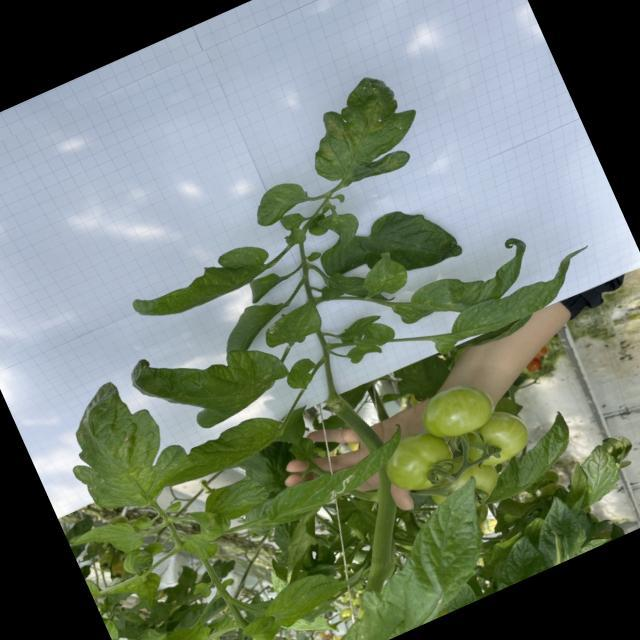Tomato target spot leaf: (291, 474, 524, 640), (42, 361, 206, 531), (122, 304, 298, 452), (421, 241, 608, 360), (288, 64, 436, 200), (377, 224, 552, 338), (257, 422, 419, 530), (124, 235, 280, 335), (150, 404, 294, 498), (258, 550, 379, 634), (200, 468, 276, 530), (256, 297, 330, 358), (248, 173, 316, 230), (351, 247, 413, 306), (321, 470, 364, 504), (264, 320, 282, 338)
